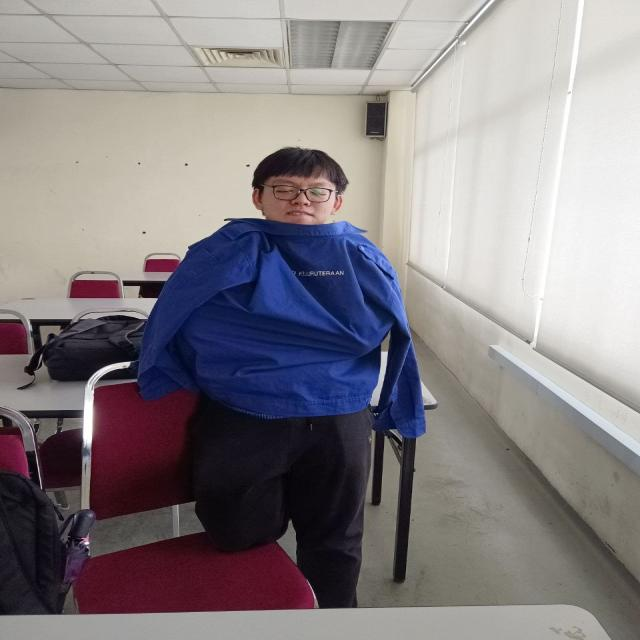person_without_labcoat: (138, 147, 425, 608)
